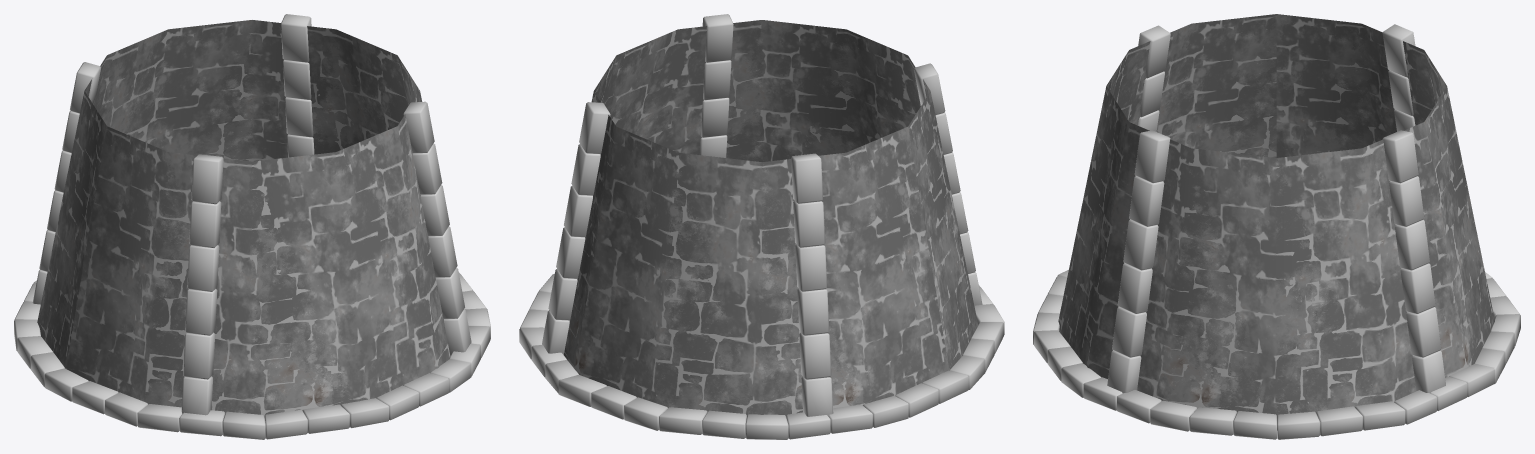
File: Tower_Wall_End_01.fbx
3 renders of one model, left to right at view 1: azimuth 30°, elevation 25°; view 2: azimuth 150°, elevation 25°; view 3: azimuth 270°, elevation 25°, orthographic.
Parts seen in each view (by area): view 1: Tower_Wall_End.001; view 2: Tower_Wall_End.001; view 3: Tower_Wall_End.001.
Boxes of the visible parts, x1,y1,x2,y2 form: Tower_Wall_End.001: (14, 14, 490, 439); Tower_Wall_End.001: (519, 14, 1004, 439); Tower_Wall_End.001: (1033, 14, 1520, 439).
Size of the model in its own units: 8.8 by 5.1 by 8.81.
